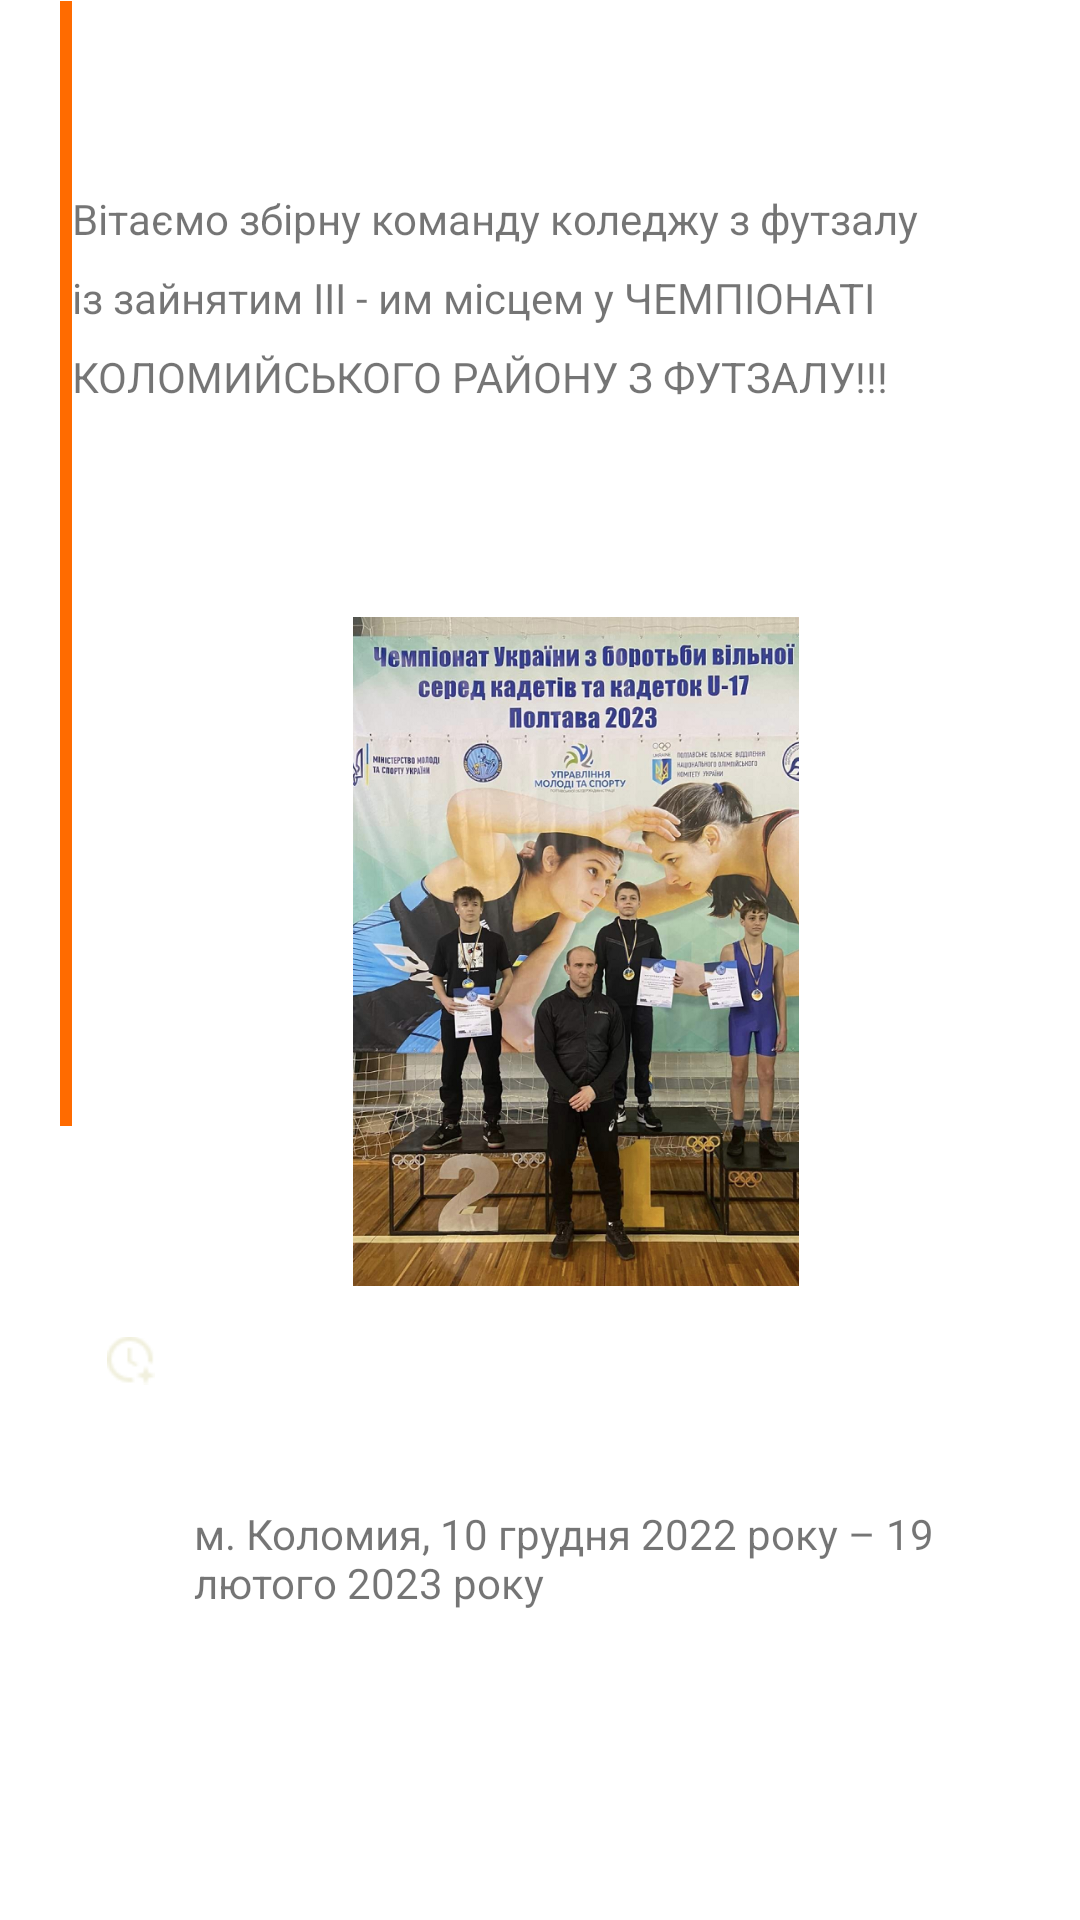

Point at icon controls on the screen. Image size 1080 x 1920, points as (x,y).
clock: (129,1359)
